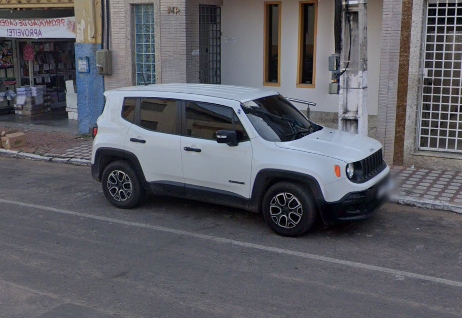car: (89, 81, 396, 255)
